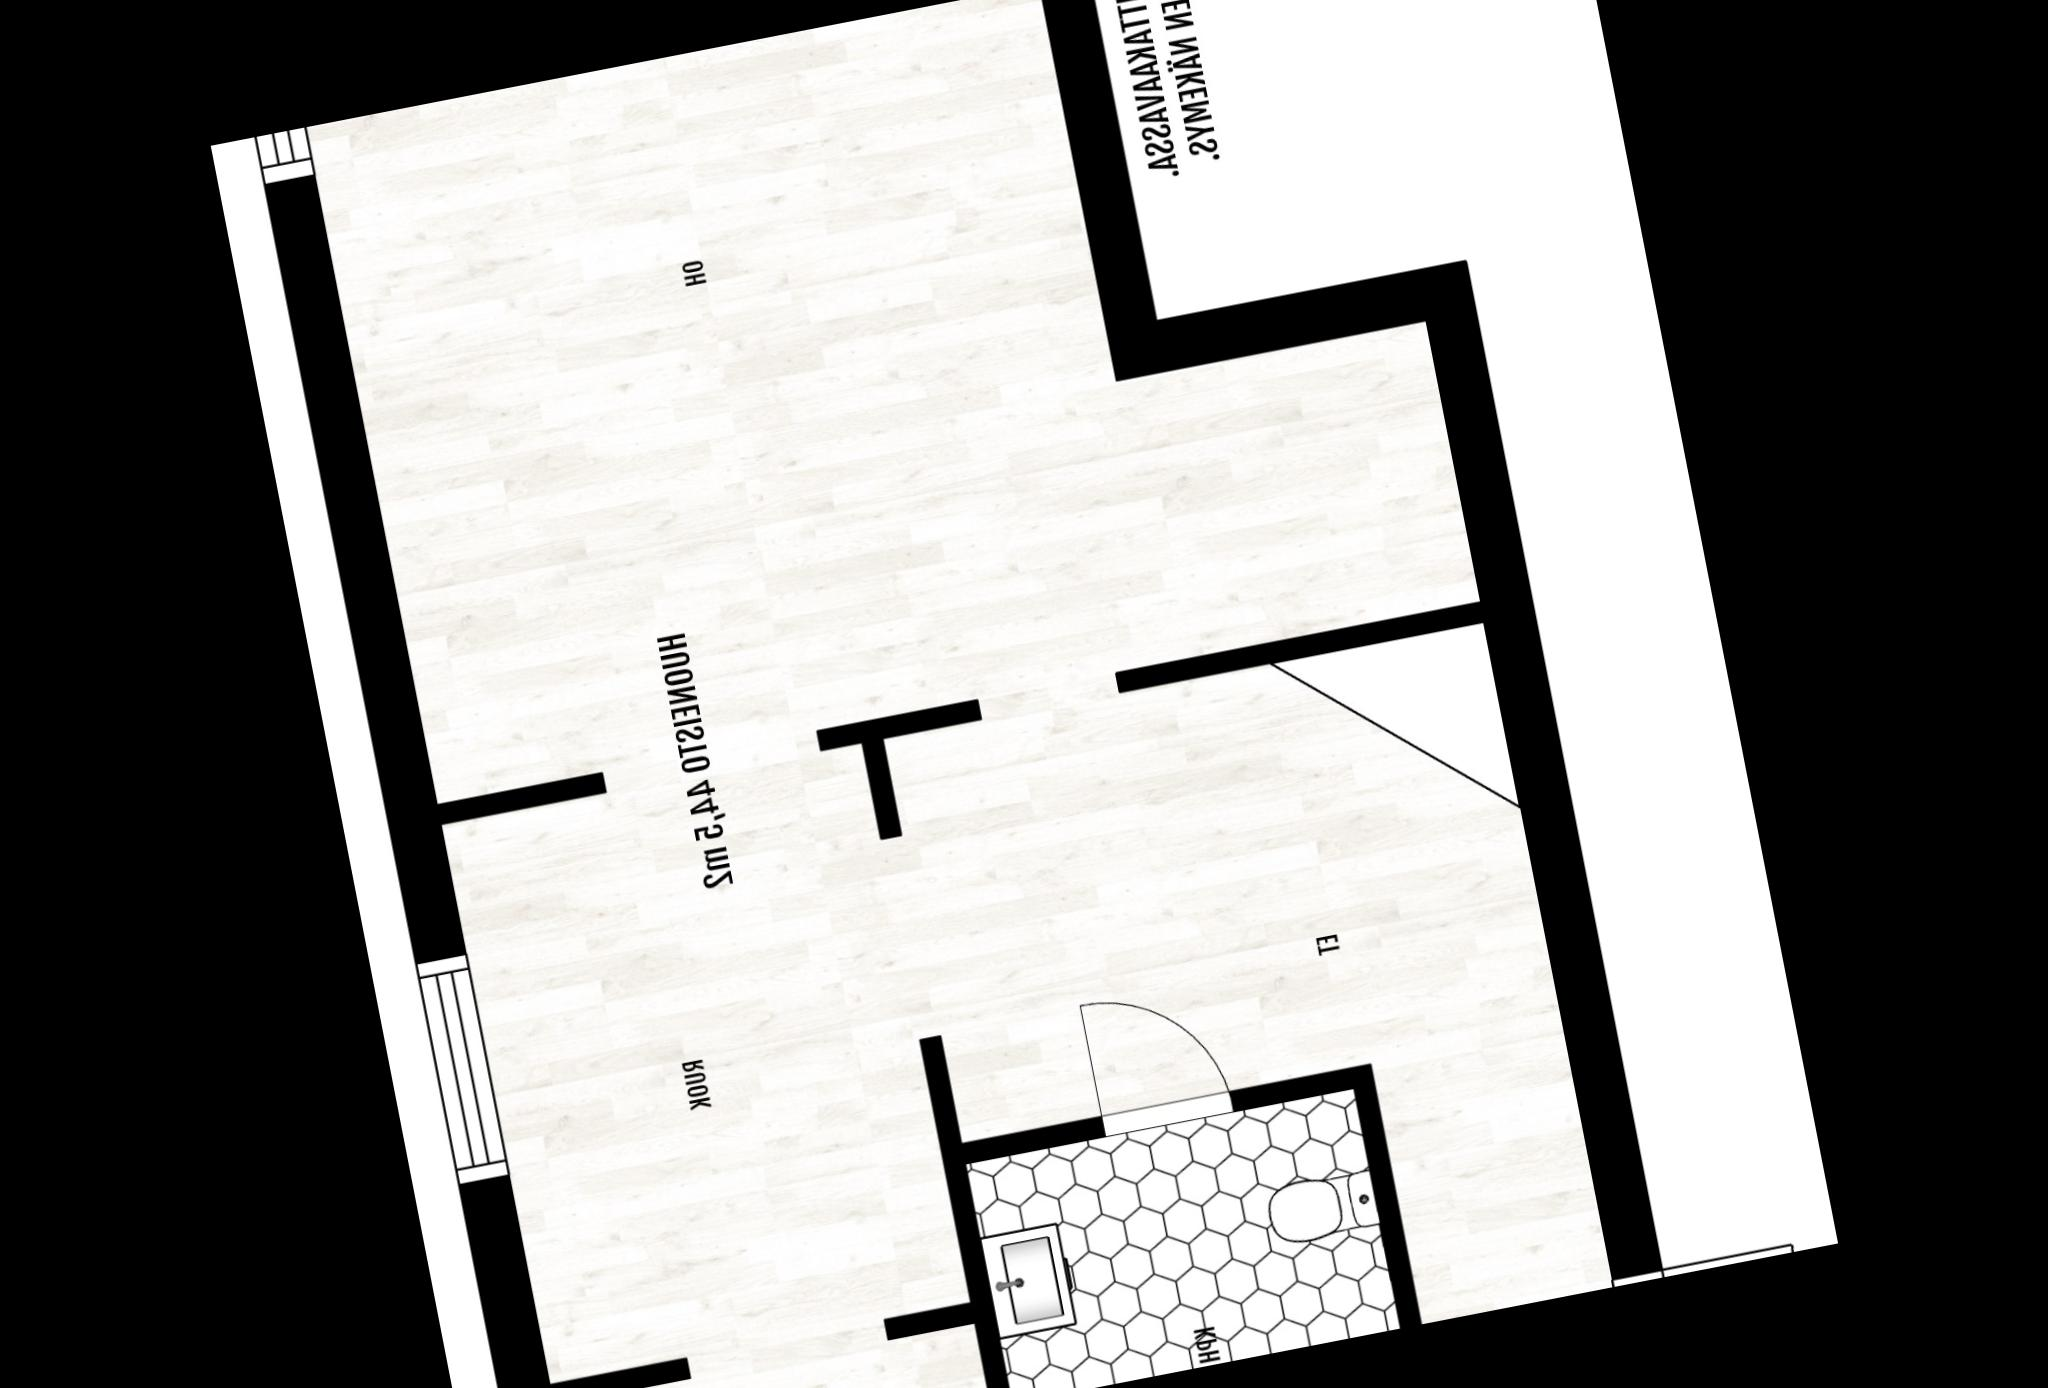door: (1067, 967, 1256, 1152)
window: (400, 938, 522, 1198), (242, 124, 333, 210)
